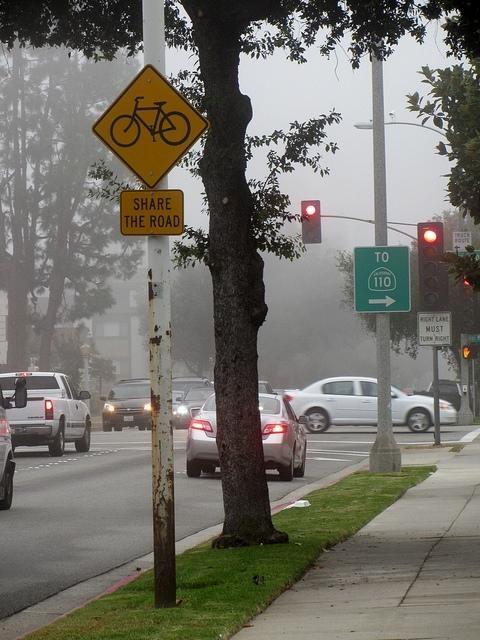car: (187, 390, 310, 480), (282, 378, 458, 432), (0, 379, 30, 509), (100, 380, 150, 430), (174, 387, 216, 428), (427, 378, 462, 411), (171, 377, 214, 390), (172, 390, 186, 414)
truck: (0, 372, 93, 456)
